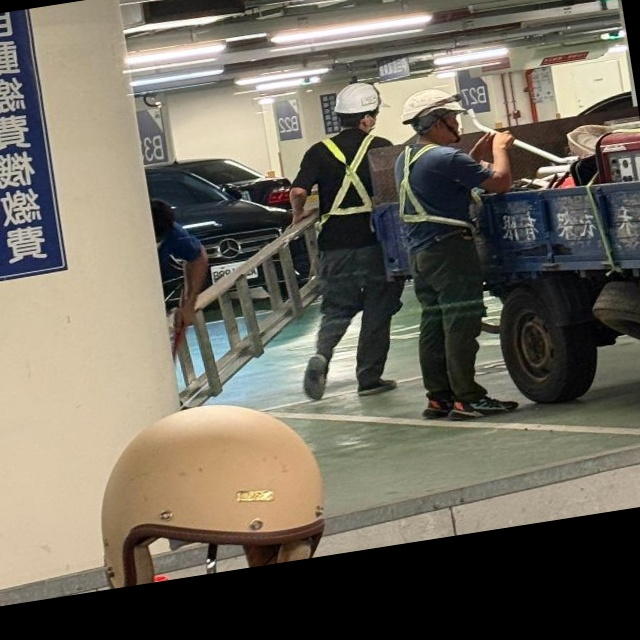Con_Casco: (397, 82, 475, 144), (328, 79, 396, 130)
Con_Chaleco: (296, 127, 405, 249), (390, 136, 482, 255)
